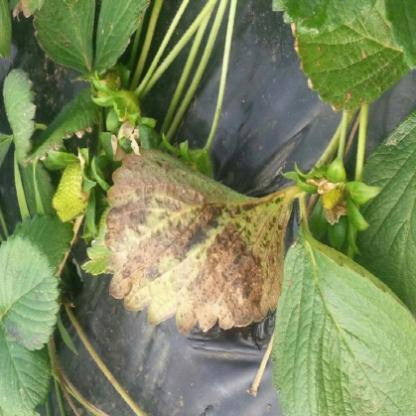Strawberry_Angular_LeafSpot: (102, 146, 296, 336)
